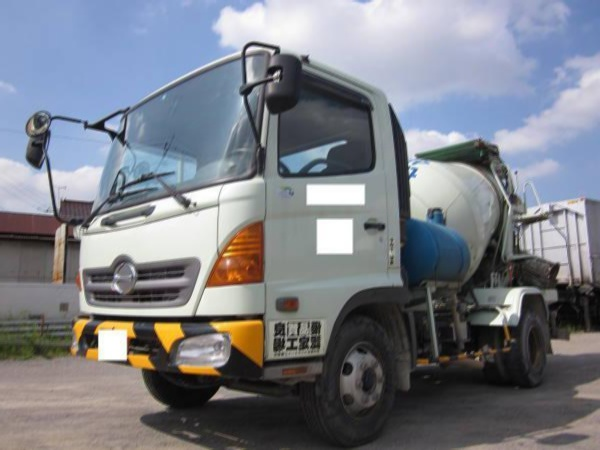truck: (22, 45, 548, 443)
